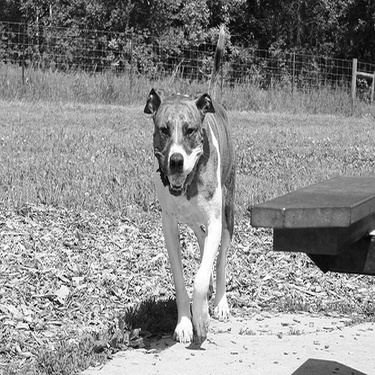dog: (137, 79, 239, 346)
